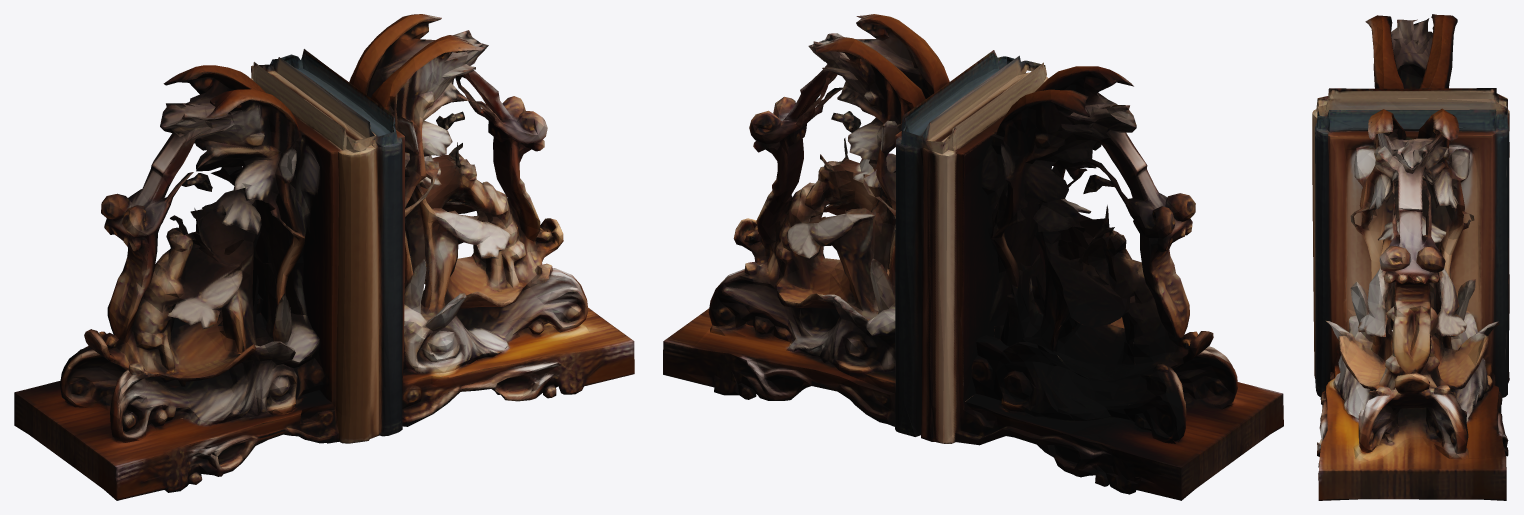
Rendered from wooden-bookends-3d.jpeg.glb.
3 renders of one model, left to right at view 1: azimuth 30°, elevation 25°; view 2: azimuth 150°, elevation 25°; view 3: azimuth 270°, elevation 25°, orthographic. The views are drawn at different scales.
Visible parts, largest first — view 1: world; view 2: world; view 3: world.
Part boxes in pixels (left/top/right/bottom): world: left=14, top=14, right=634, bottom=500; world: left=663, top=14, right=1283, bottom=500; world: left=1312, top=14, right=1509, bottom=500.
Bounding box in the file's own units: 1 × 0.6552 × 0.3596.
1 material, 1 textured.
